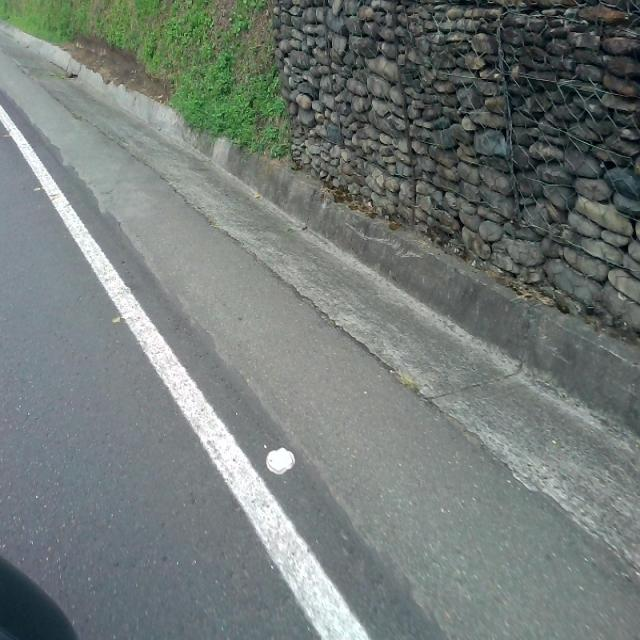DITCH: (1, 21, 638, 638)
